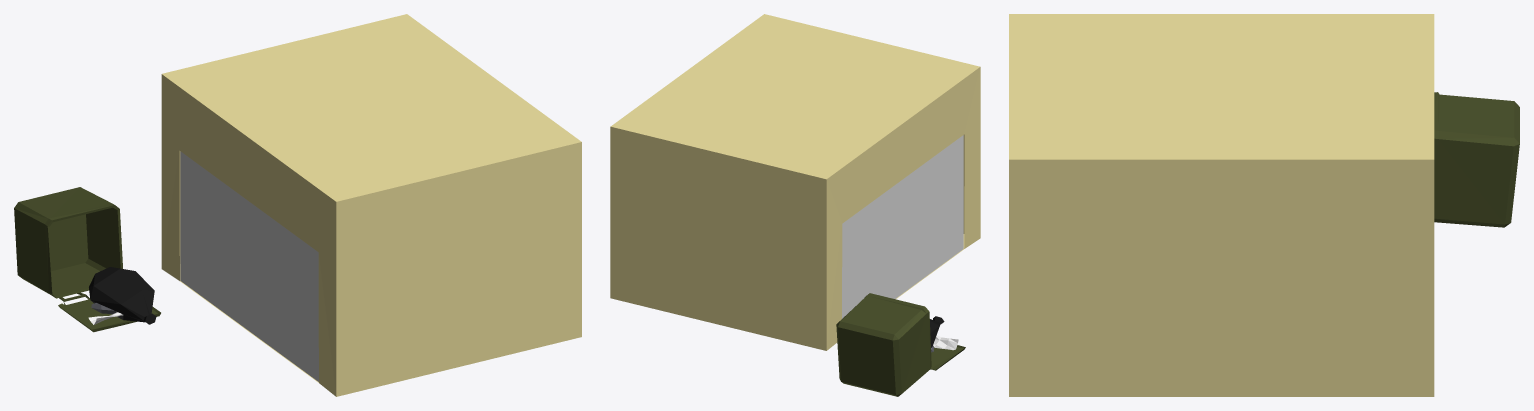
File: Model_Kosze.fbx
The picture shows the model from 3 angles, left to right: view 1: azimuth 30°, elevation 25°; view 2: azimuth 150°, elevation 25°; view 3: azimuth 270°, elevation 25°; orthographic projection. The views are drawn at different scales.
Parts seen in each view (by area): view 1: Plane.003, Plane; view 2: Plane.003, Plane; view 3: Plane.003.
Part boxes in pixels (bbox=[...]): Plane.003: bbox=[14, 14, 581, 396]; Plane: bbox=[180, 151, 318, 381]; Plane.003: bbox=[610, 14, 980, 396]; Plane: bbox=[842, 135, 963, 318]; Plane.003: bbox=[1009, 14, 1519, 396].
Size of the model in its own units: 643 by 336 by 638.
